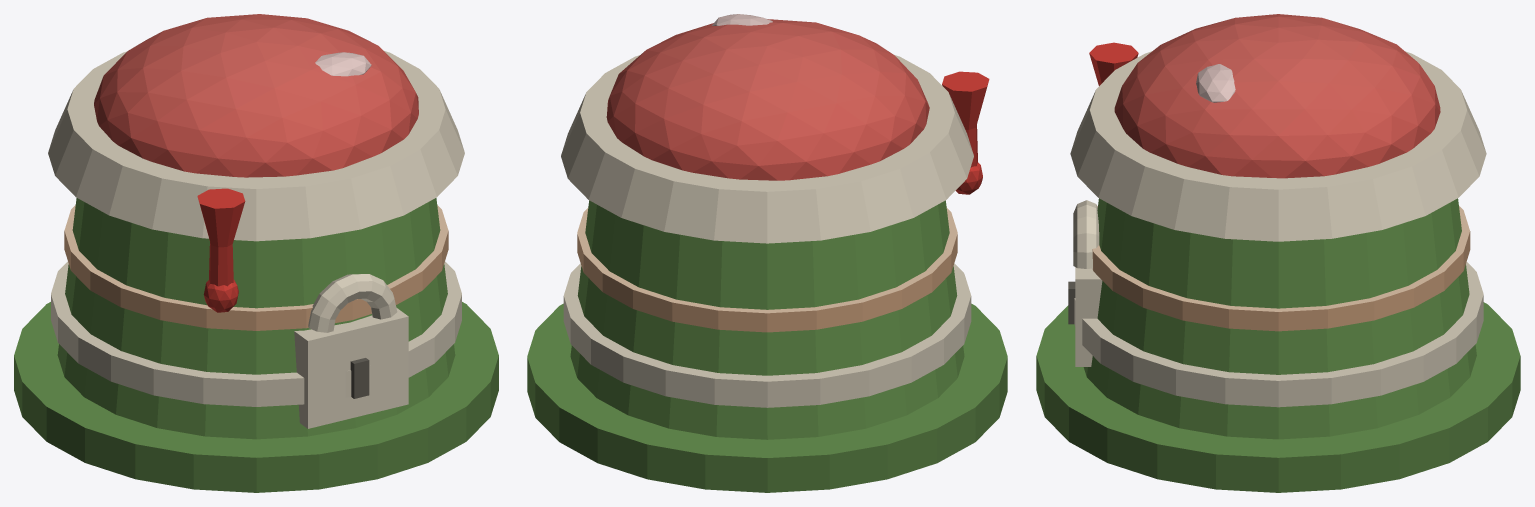
Rendered from goo_lock_button@garden.fbx.
3 renders of one model, left to right at view 1: azimuth 30°, elevation 25°; view 2: azimuth 150°, elevation 25°; view 3: azimuth 270°, elevation 25°, orthographic.
Parts seen in each view (by area): view 1: goo_lock_button; view 2: goo_lock_button; view 3: goo_lock_button.
Boxes of the visible parts, x1,y1,x2,y2 form: goo_lock_button: (14, 14, 498, 492); goo_lock_button: (527, 14, 1007, 492); goo_lock_button: (1036, 14, 1520, 492).
Size of the model in its own units: 5 by 3.97 by 5.
